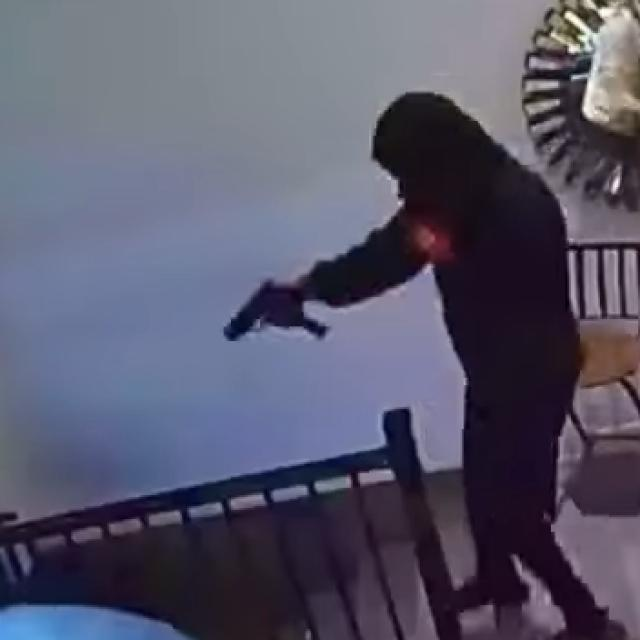FPistol: (213, 272, 308, 354)
